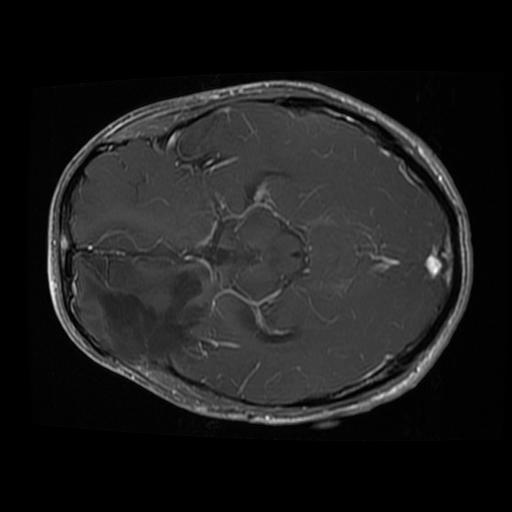glioma: (94, 272, 206, 365)
